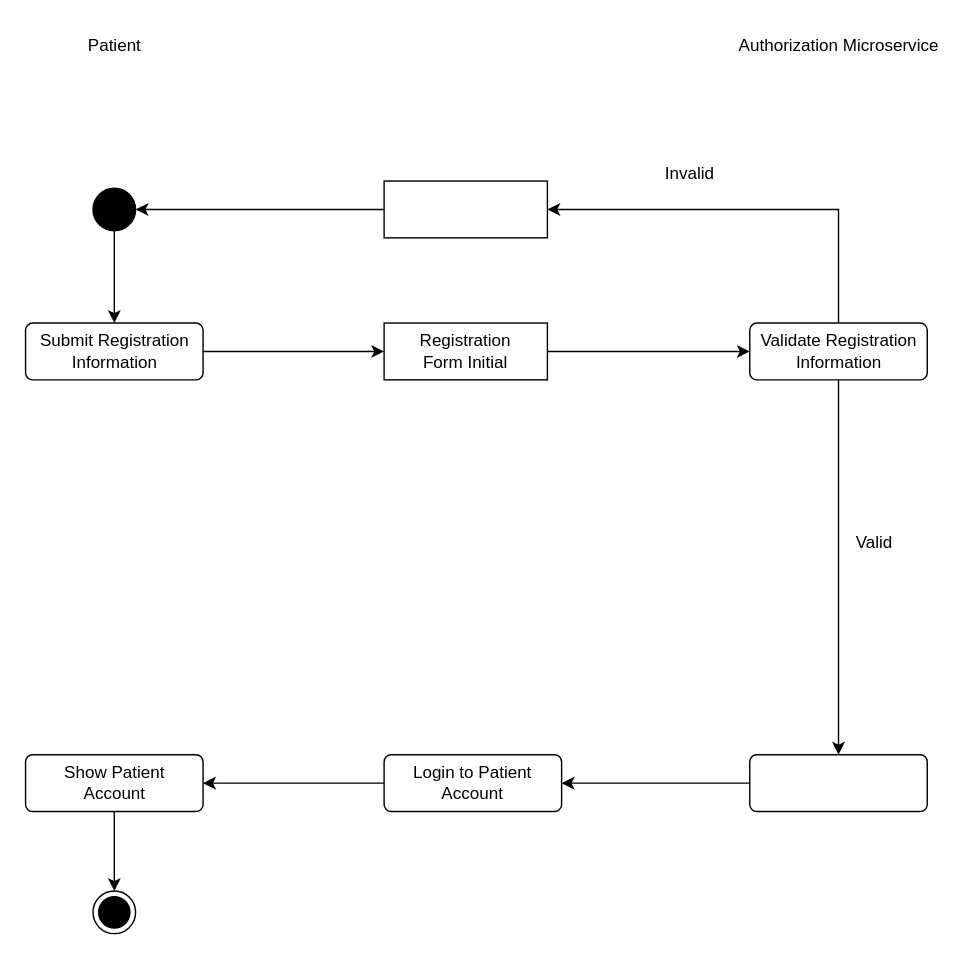
The diagram is 976 pixels wide and 959 high, and some of its shapes have lost their labels. Here are the shapes that lost their labels. From the top down, the centre of each, then its label:
(465,209): Registration Form Error
(837,782): Create Patient Account
